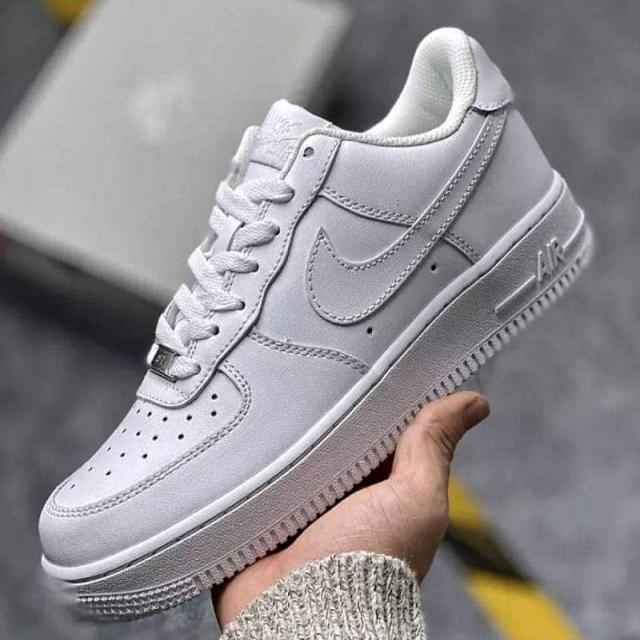nike original air force: (35, 30, 602, 622)
